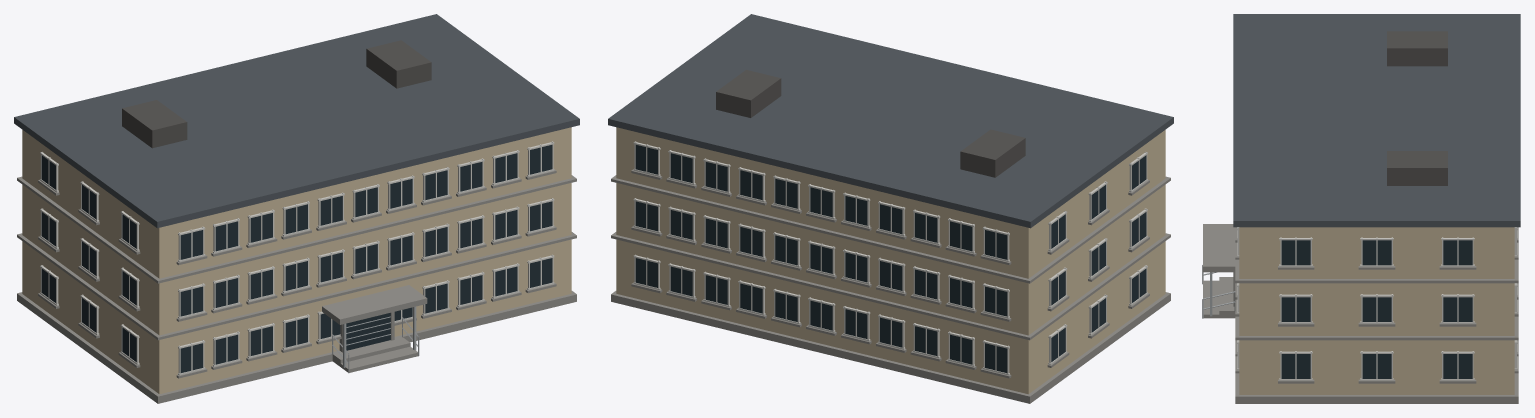
The model's file is Scenery_OfficeBlock.fbx.
3 views of the same model, side by side, from view 1: azimuth 30°, elevation 25°; view 2: azimuth 150°, elevation 25°; view 3: azimuth 270°, elevation 25° (orthographic).
Visible parts, largest first — view 1: Scenery_OfficeBlock_LOD0; view 2: Scenery_OfficeBlock_LOD0; view 3: Scenery_OfficeBlock_LOD0.
Boxes of the visible parts, x1,y1,x2,y2 form: Scenery_OfficeBlock_LOD0: [14, 14, 579, 403]; Scenery_OfficeBlock_LOD0: [608, 14, 1173, 403]; Scenery_OfficeBlock_LOD0: [1202, 14, 1520, 403].
Size of what is drawn, in the model's own units: 24.2 by 11 by 15.74.
